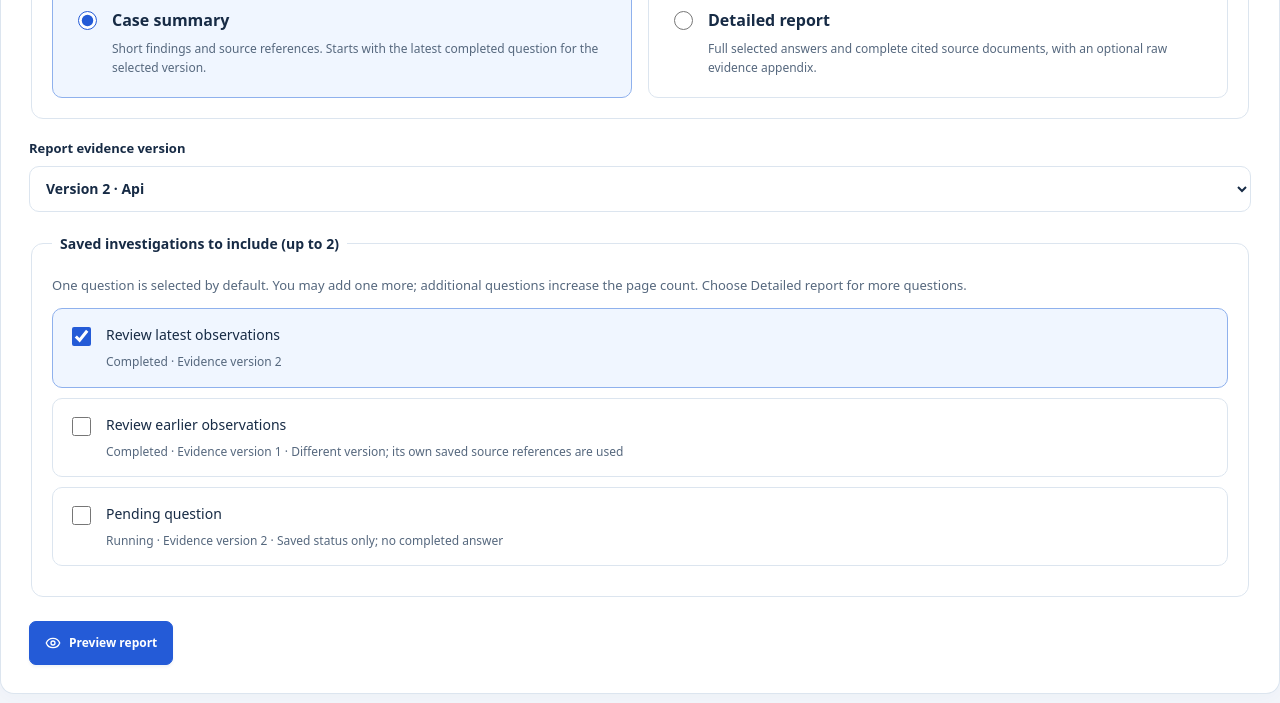
Test: frozen payment case reports › refreshes saved reports after an explicit preview has been saved
(page scrolled)
Expected: the dropdown labelled "Report evidence version" is shown, x1=29 y1=166 x2=1251 y2=212
Click the button "Preview report". click: (101, 643)
box: x1=29 y1=621 x2=173 y2=665
(page scrolled)
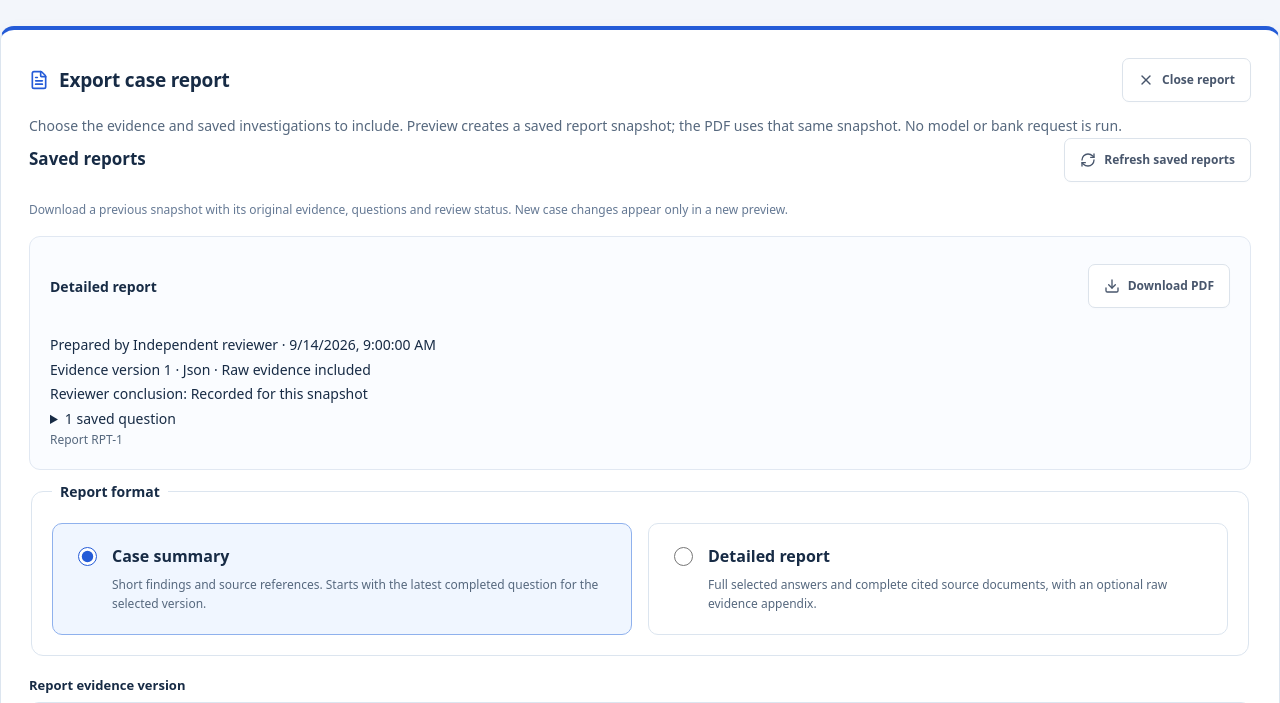
Result: the element named "Saved report RPT-1" is shown at x1=29 y1=236 x2=1251 y2=470
